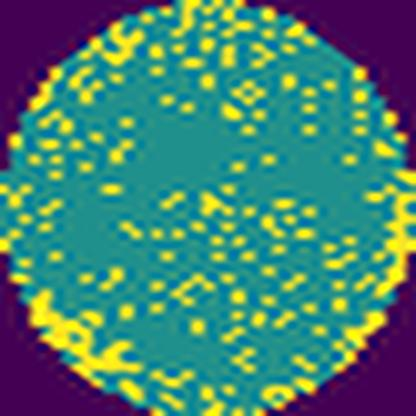Edge-Loc: (30, 277, 145, 391), (375, 166, 415, 294)
